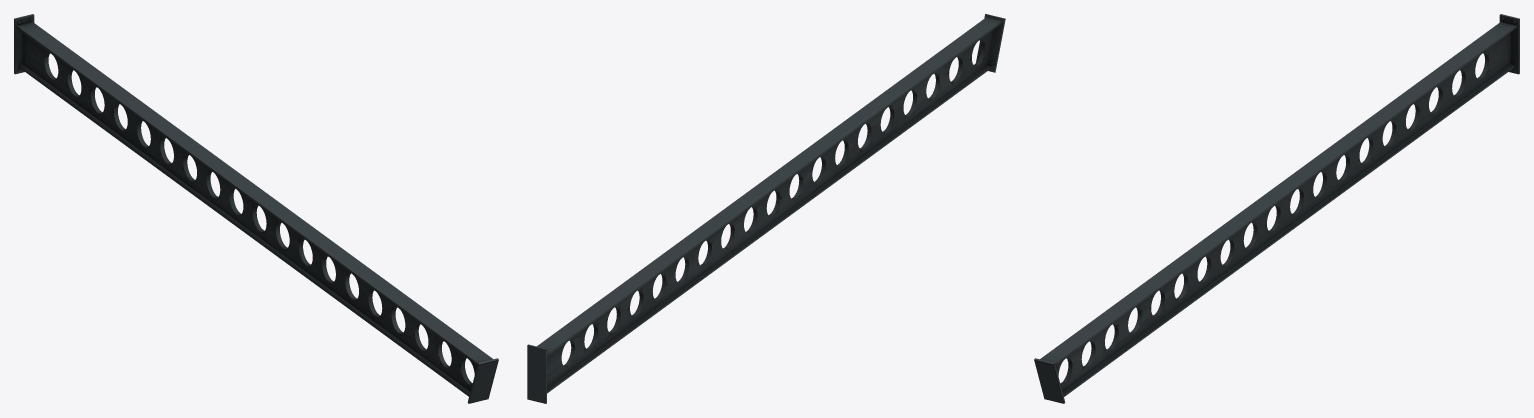
3 views of the same model, side by side, from view 1: azimuth 30°, elevation 25°; view 2: azimuth 150°, elevation 25°; view 3: azimuth 330°, elevation 25° (orthographic).
Parts seen in each view (by area): view 1: body0_model0_lod0_mesh0; view 2: body0_model0_lod0_mesh0; view 3: body0_model0_lod0_mesh0.
Part boxes in pixels (x1,y1,x2,y2): body0_model0_lod0_mesh0: (14,14,498,403); body0_model0_lod0_mesh0: (527,14,1005,403); body0_model0_lod0_mesh0: (1034,14,1519,403).
Size of the model in its own units: 19.76 by 52.41 by 805.
Materials: 1 (1 with a texture image).
